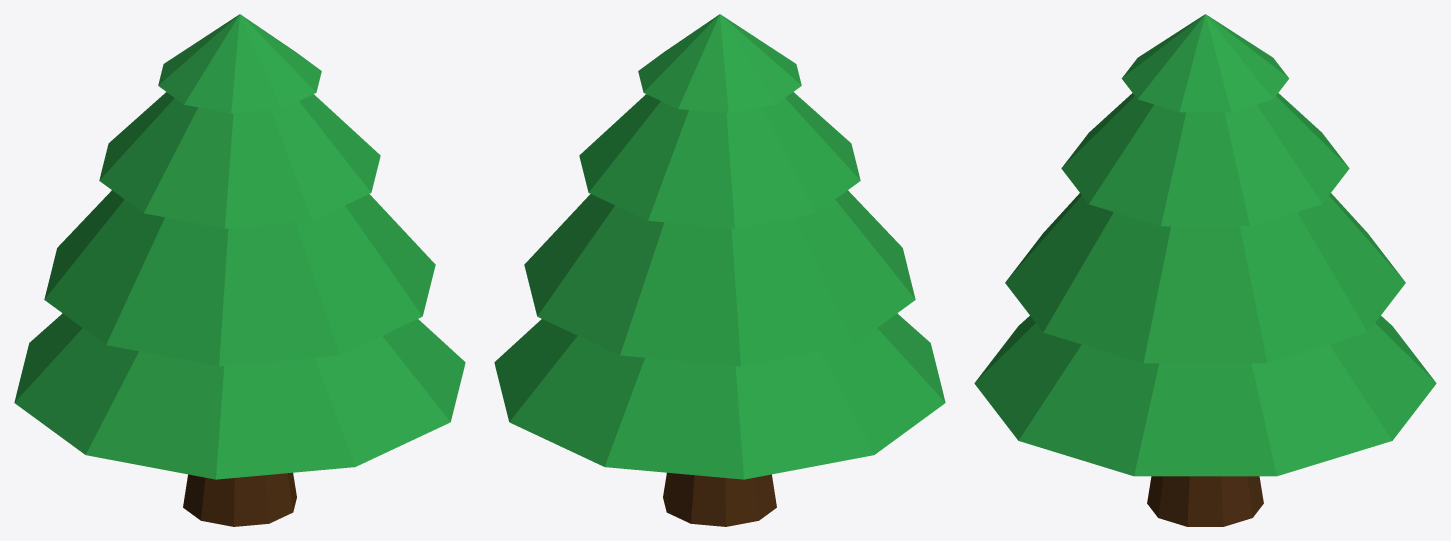
File: Short_Pine.fbx
The picture shows the model from 3 angles, left to right: view 1: azimuth 30°, elevation 25°; view 2: azimuth 150°, elevation 25°; view 3: azimuth 270°, elevation 25°; orthographic projection.
Visible parts, largest first — view 1: Short Pine; view 2: Short Pine; view 3: Short Pine.
Boxes of the visible parts, left/top/right/bottom form: Short Pine: left=14, top=14, right=465, bottom=526; Short Pine: left=494, top=14, right=945, bottom=526; Short Pine: left=974, top=14, right=1436, bottom=526.
Size of the model in its own units: 286 by 351 by 301.
